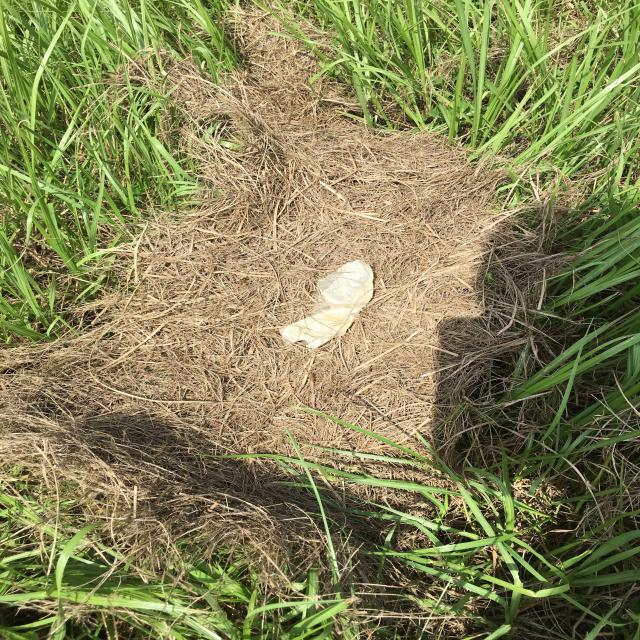litter: (278, 259, 374, 349)
